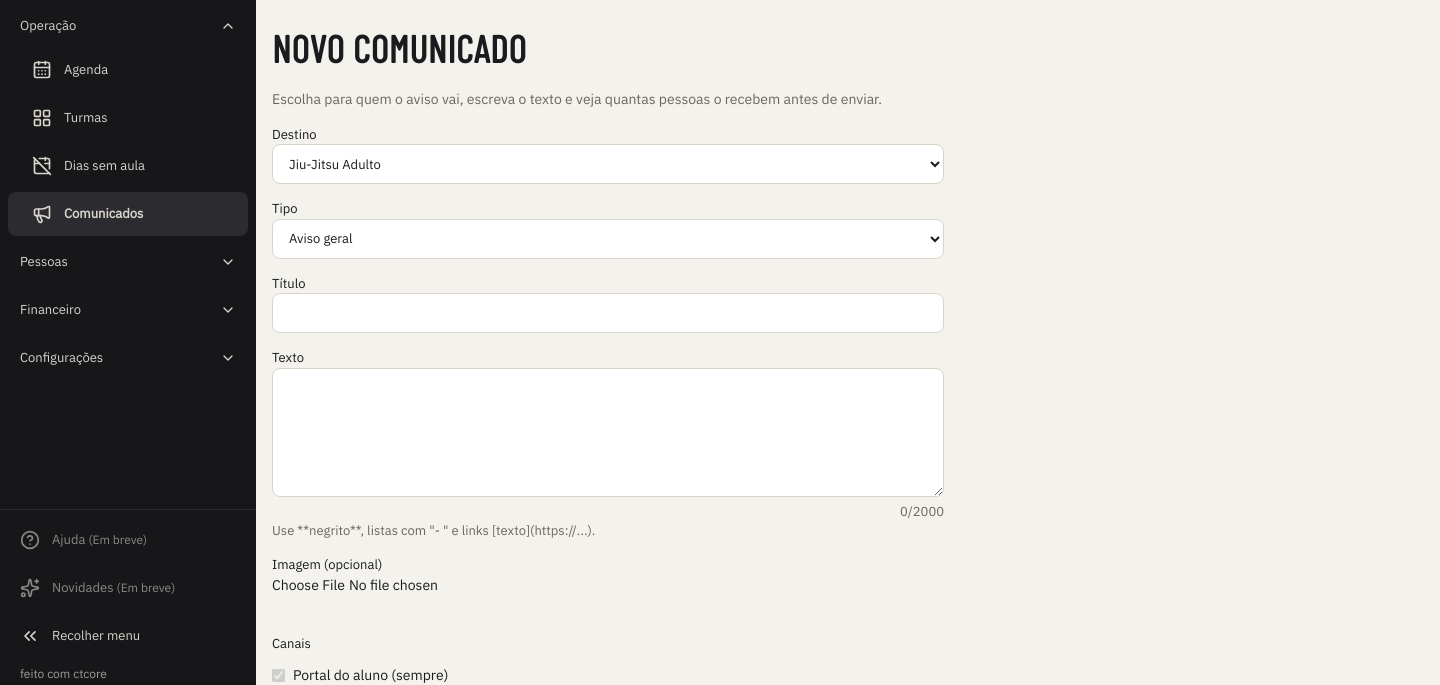
NewAnnouncementPage (RF-COM-02) › CA25: agendar envia o instante escolhido e a confirmação é de agendado
Expected: the dropdown labelled "Destino" is shown, [272,144,944,184]
In the field labelled "Título": (608, 313) [272,293,944,333], type "Aviso"
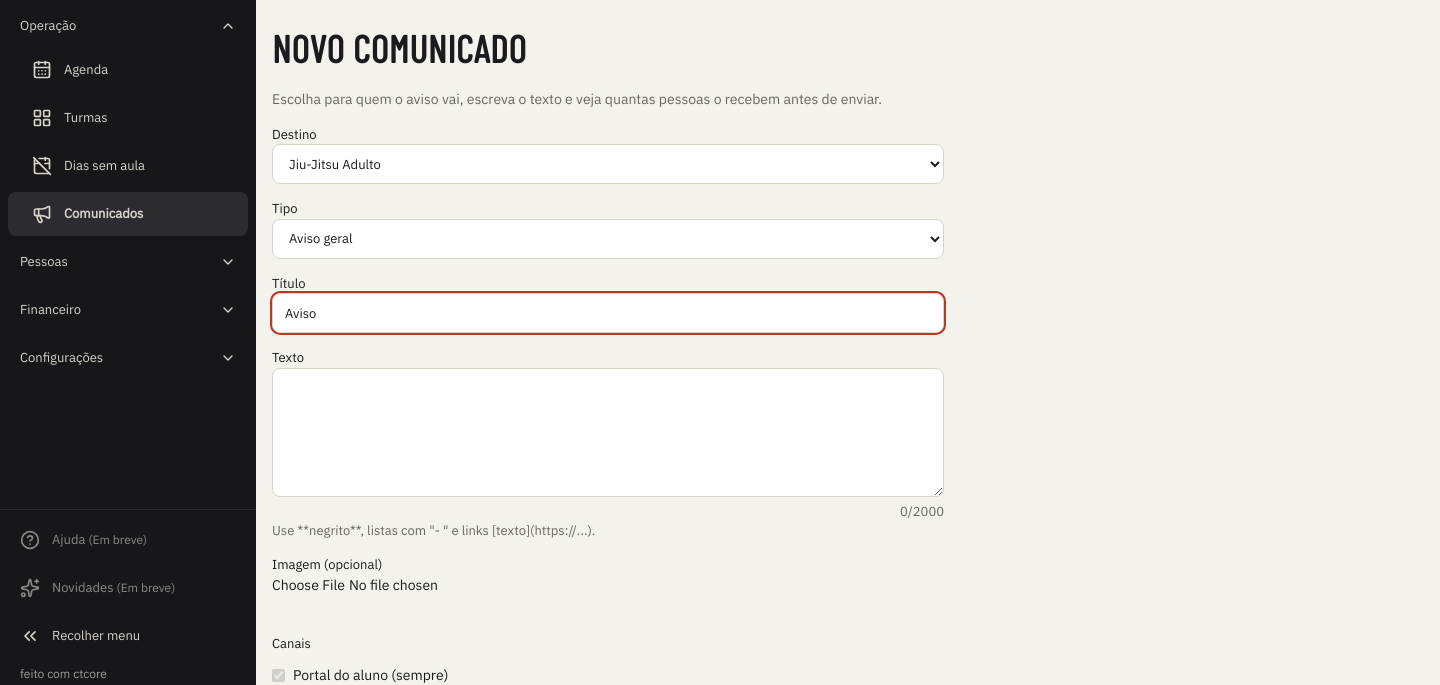
In the text box labelled "Texto": (608, 432) [272,368,944,497], type "Texto"
(page scrolled)
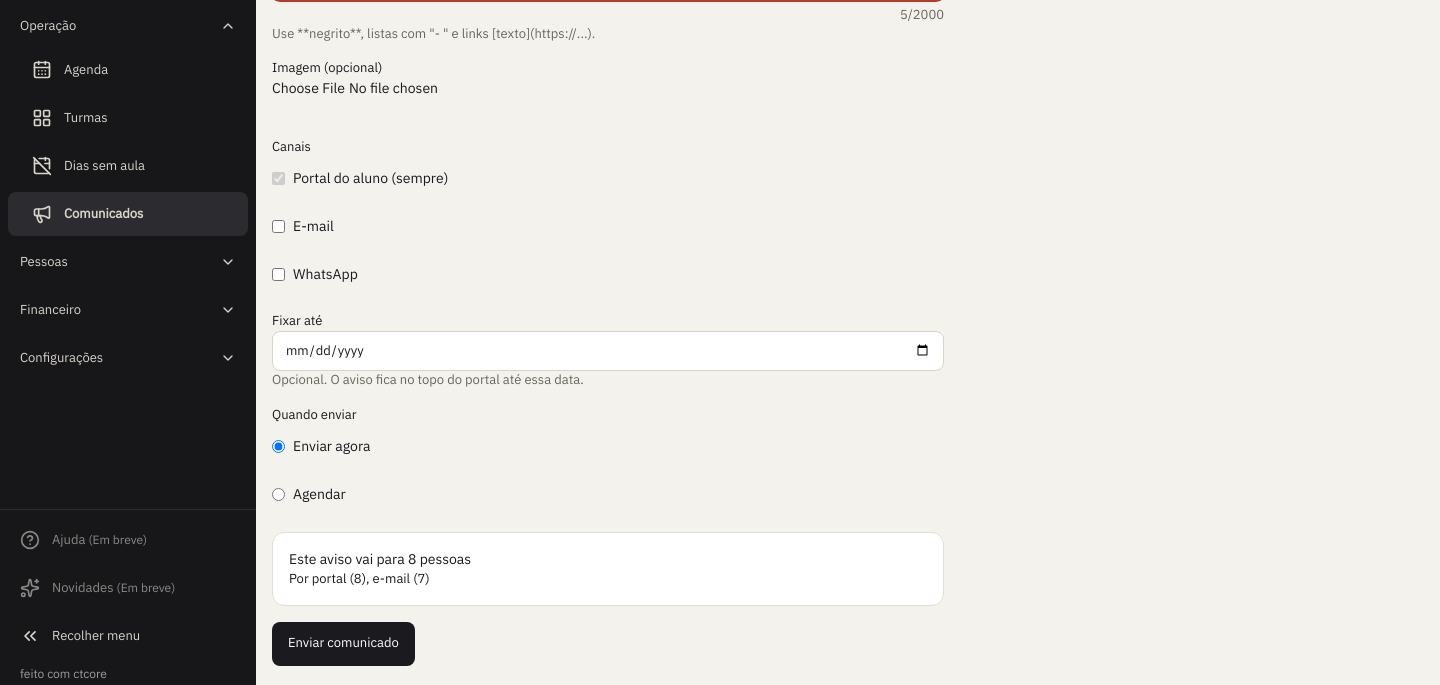
Click the radio button labelled "Agendar": (278, 494) [272,488,285,501]
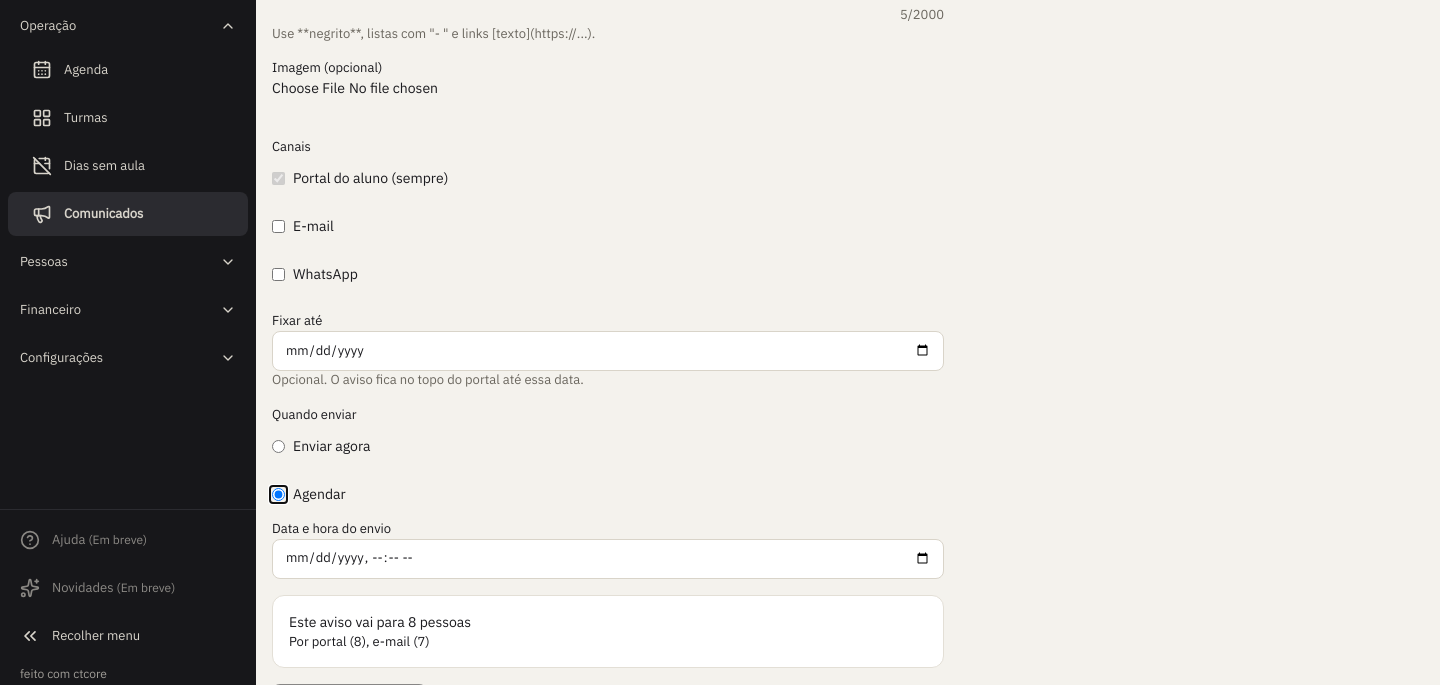
In the field labelled "Data e hora do envio": (608, 559) [272,539,944,579], type "2099-01-01T10:00"
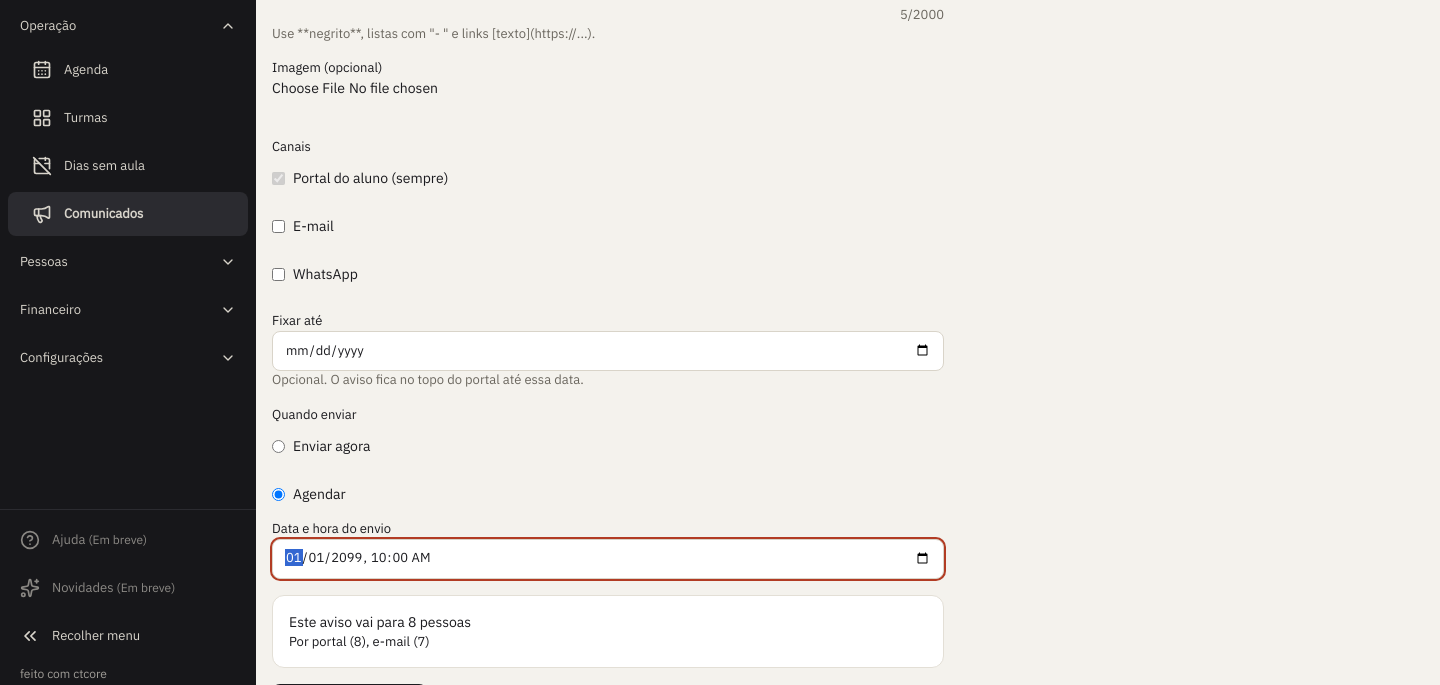
In the date field labelled "Fixar até": (608, 351) [272,331,944,371], type "2099-01-05"
(page scrolled)
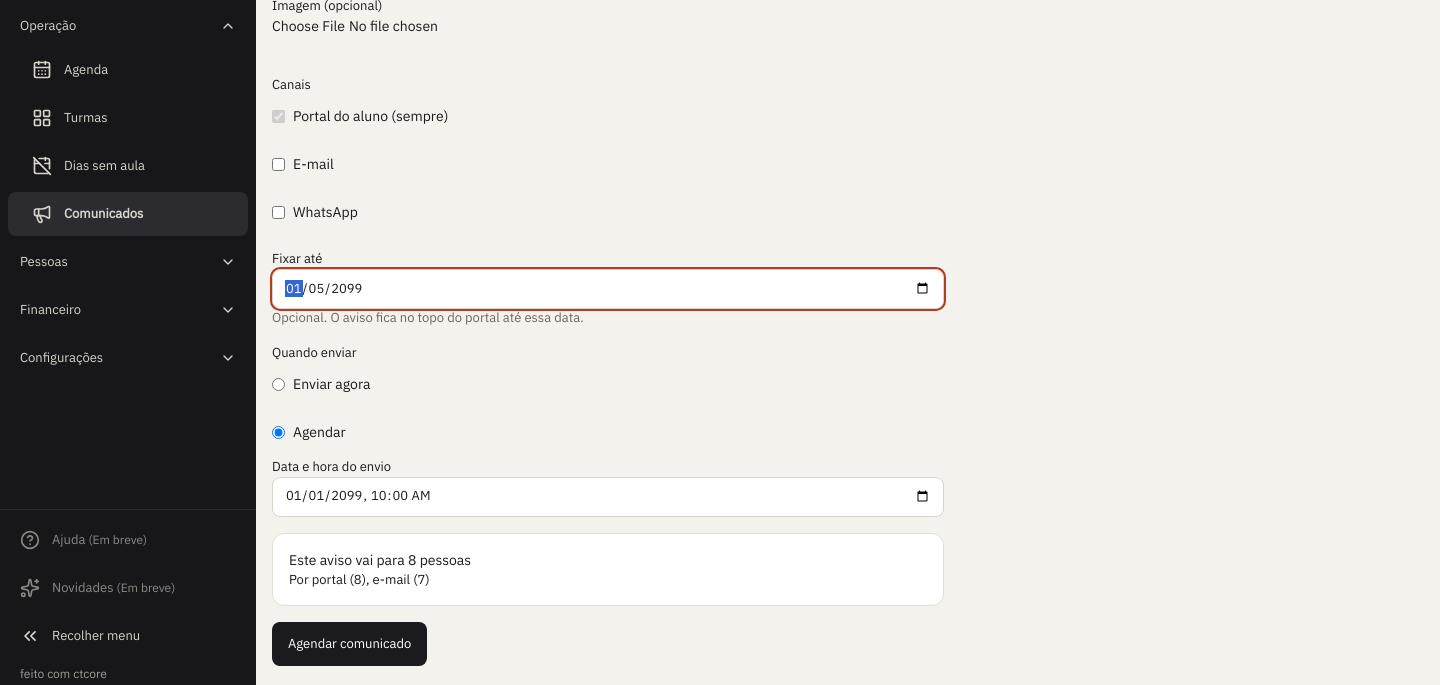
Click the button "Agendar comunicado": (350, 644) [272,622,427,666]
(page scrolled)
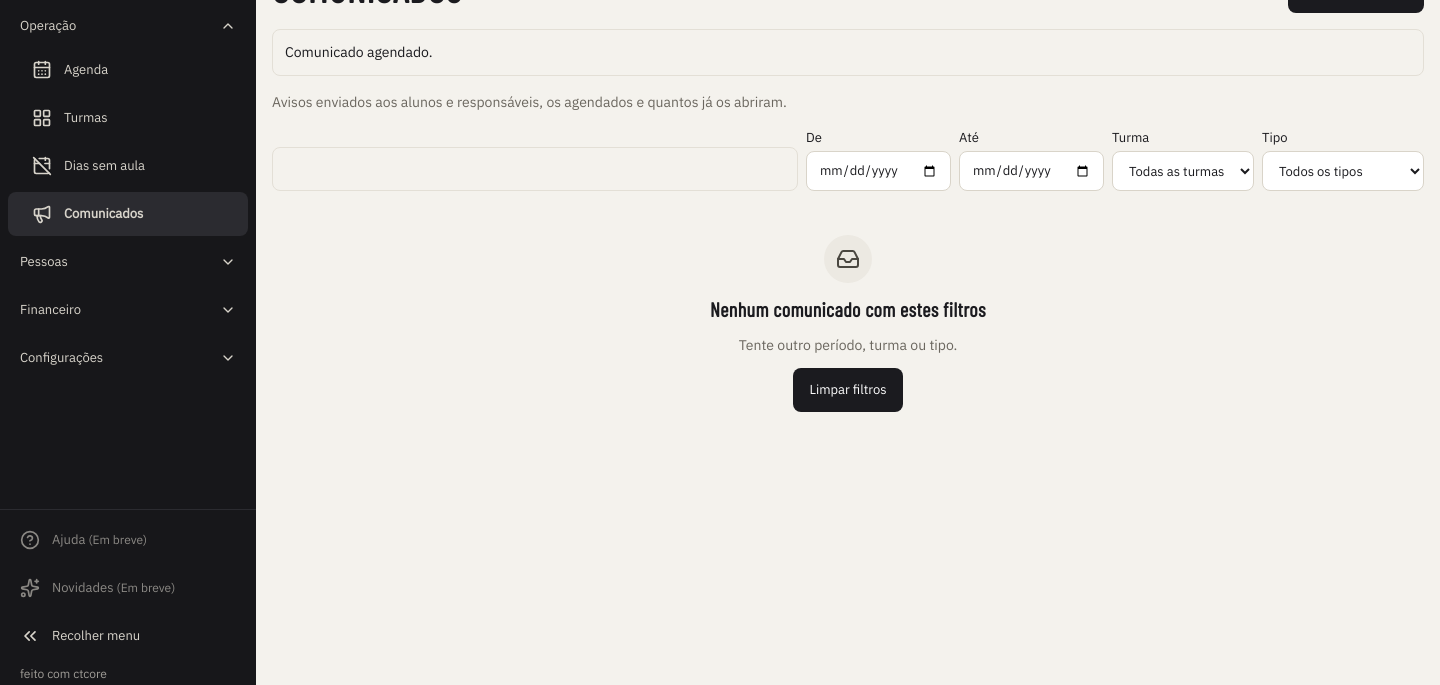
Now the text "Comunicado agendado." is shown, box [272,28,1424,76]
